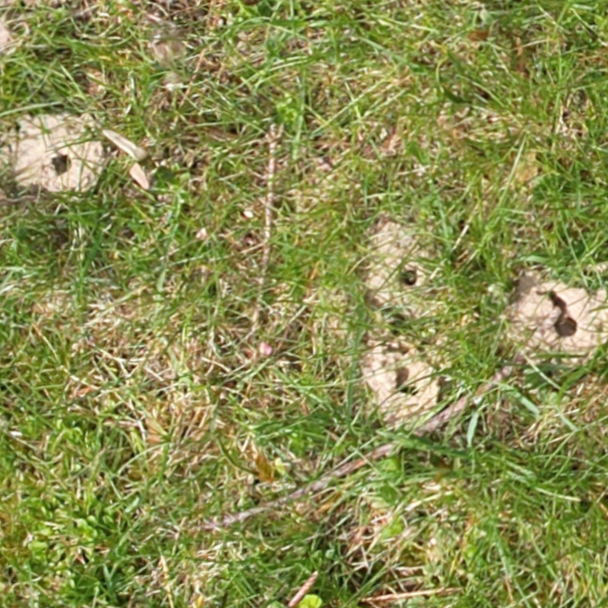nest: (504, 274, 608, 370), (358, 223, 449, 321), (354, 334, 443, 432), (7, 113, 106, 196)
